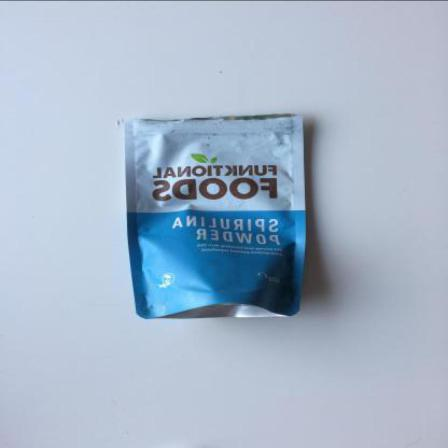Plastic bag - wrapper: (125, 114, 306, 320)
